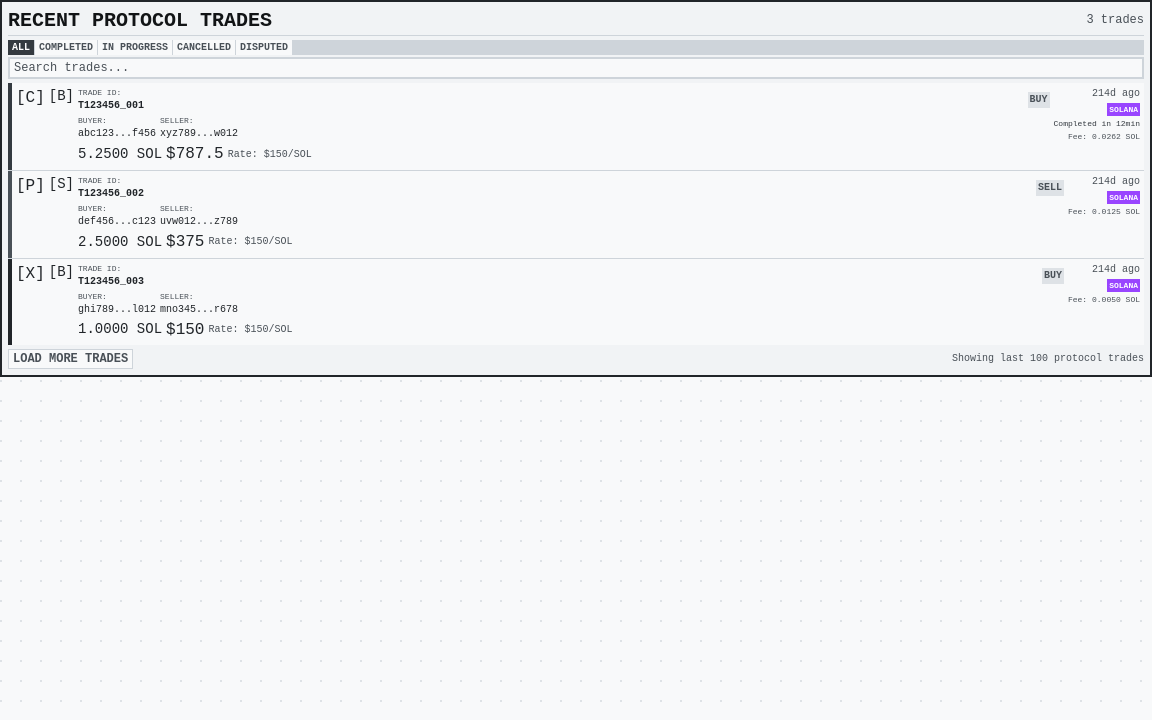
RecentTrades › filters trades by status
# Click on Completed filter
Click the button "Completed": (66,48) [35,40,97,55]
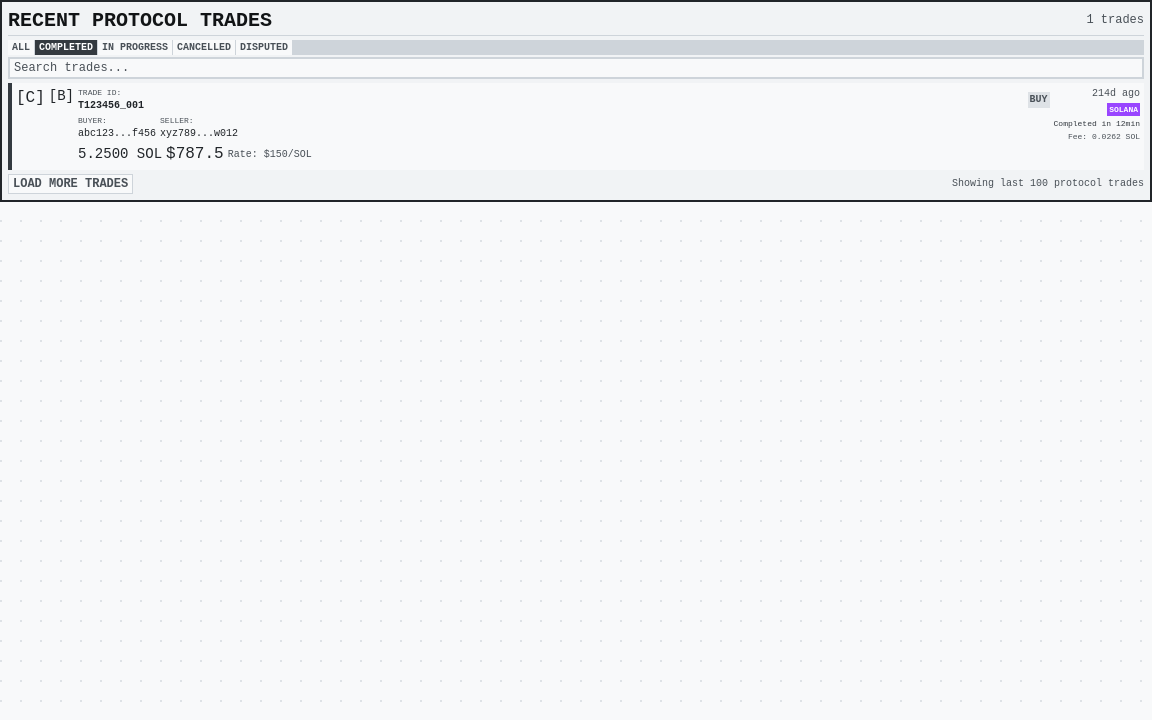
Expected: the text "1 trades" is shown, [1086,13,1144,27]
Expected: the text "T123456_002" is gone
Expected: the text "T123456_003" is gone
